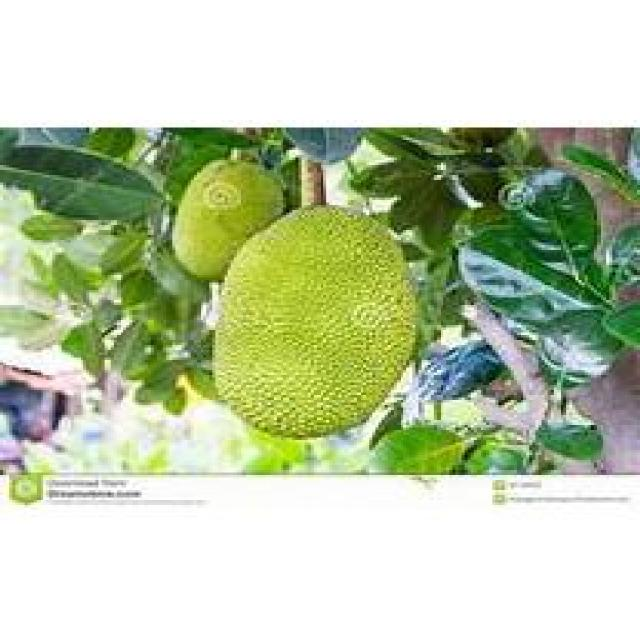Fruit: (203, 192, 431, 448)
